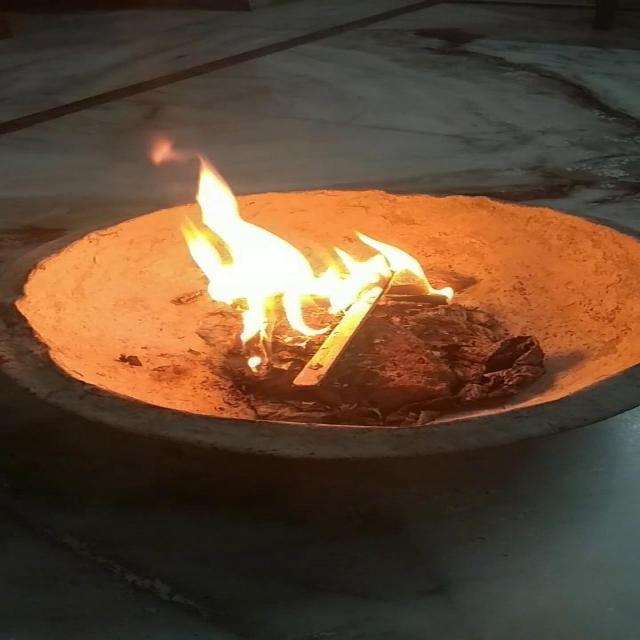fire: (148, 119, 454, 357)
